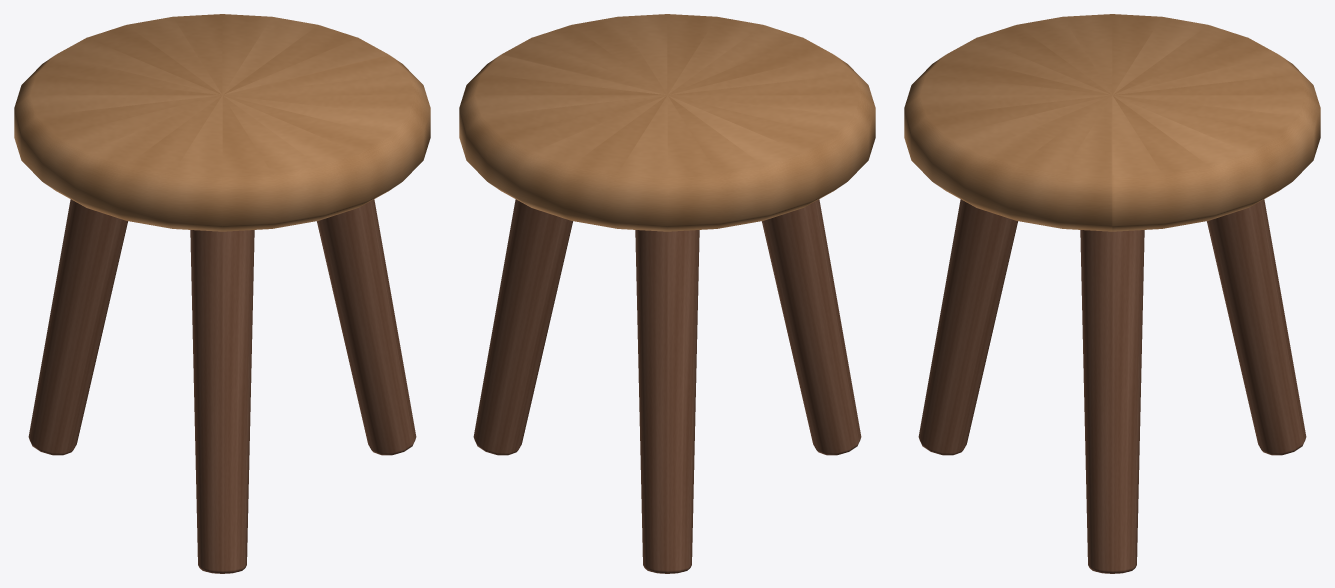
Rendered from 09-hocker.glb.
3 renders of one model, left to right at view 1: azimuth 30°, elevation 25°; view 2: azimuth 150°, elevation 25°; view 3: azimuth 270°, elevation 25°, orthographic.
Parts seen in each view (by area): view 1: Rounded seat, Splayed stool leg.002, Splayed stool leg, Splayed stool leg.001; view 2: Rounded seat, Splayed stool leg.001, Splayed stool leg, Splayed stool leg.002; view 3: Rounded seat, Splayed stool leg, Splayed stool leg.001, Splayed stool leg.002.
Part boxes in pixels (x1=…): Rounded seat: x1=14, y1=14, x2=430, y2=231; Splayed stool leg.002: x1=190, y1=230, x2=254, y2=573; Splayed stool leg: x1=317, y1=199, x2=416, y2=455; Splayed stool leg.001: x1=28, y1=199, x2=127, y2=455; Rounded seat: x1=459, y1=14, x2=875, y2=231; Splayed stool leg.001: x1=635, y1=230, x2=699, y2=573; Splayed stool leg: x1=473, y1=199, x2=572, y2=455; Splayed stool leg.002: x1=762, y1=199, x2=861, y2=455; Rounded seat: x1=904, y1=14, x2=1320, y2=231; Splayed stool leg: x1=1080, y1=230, x2=1144, y2=573; Splayed stool leg.001: x1=1207, y1=199, x2=1306, y2=455; Splayed stool leg.002: x1=918, y1=199, x2=1017, y2=455.
Size of the model in its own units: 0.4566 by 0.4641 by 0.444.
Materials: 2 (2 with a texture image).
